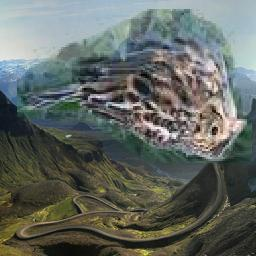Sparrow: (18, 9, 253, 163)
